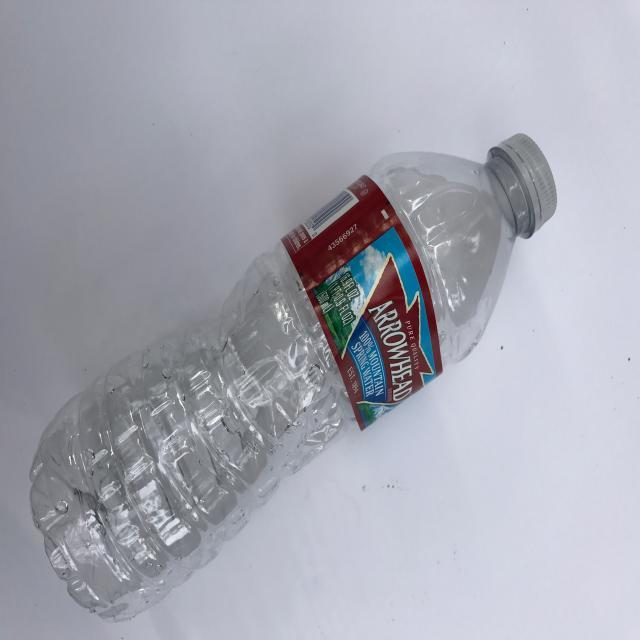plastic: (28, 130, 559, 624)
